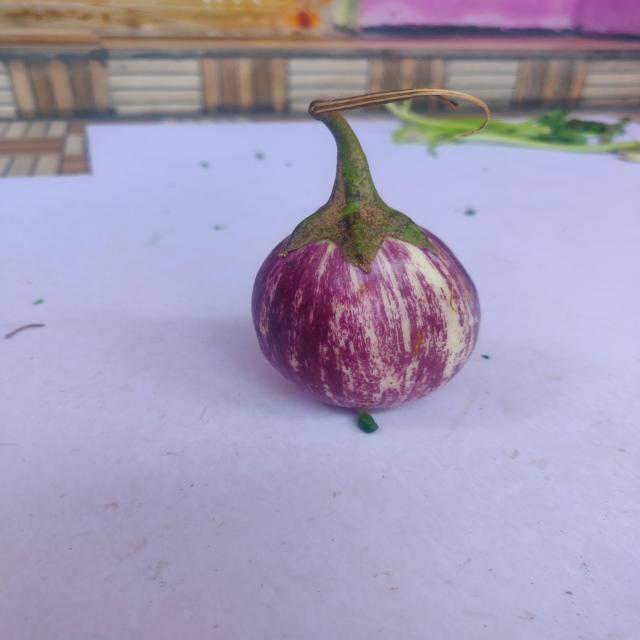Eggplant: (238, 175, 507, 429)
